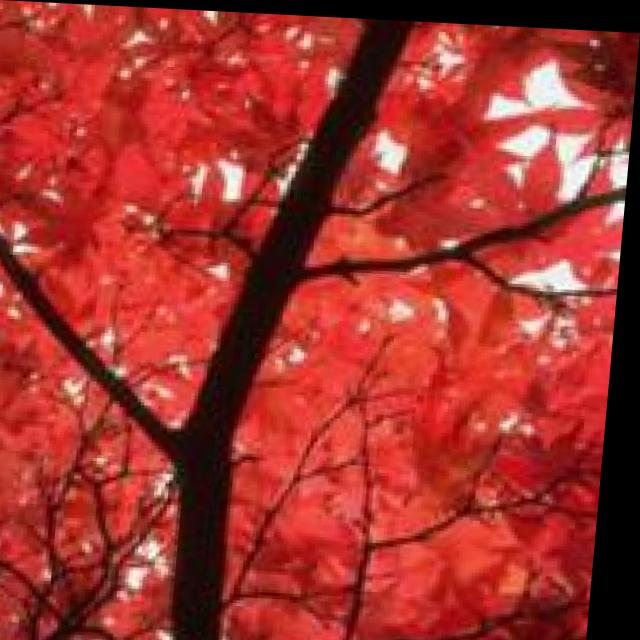nofire: (0, 0, 640, 640)
